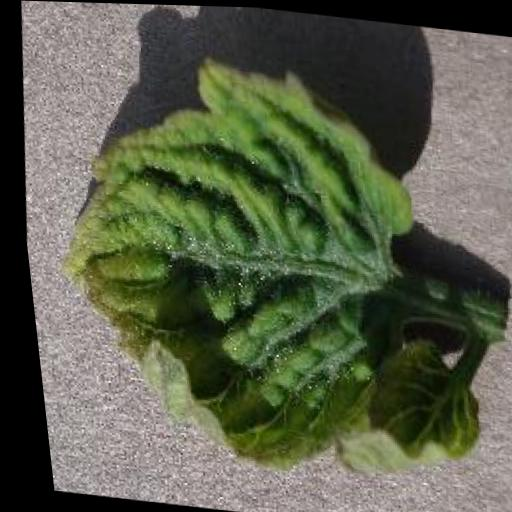Yellow Leaf Curl Virus: (22, 38, 442, 485)
